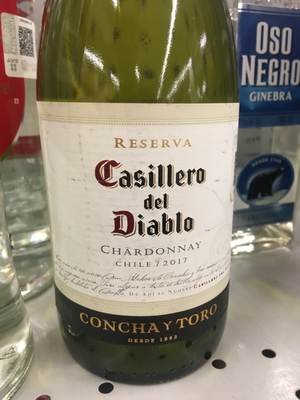casillero del diablo chardonnay: (32, 10, 253, 378)
